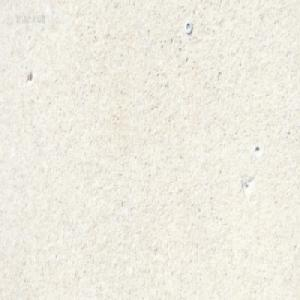Washer: (184, 20, 192, 35)
